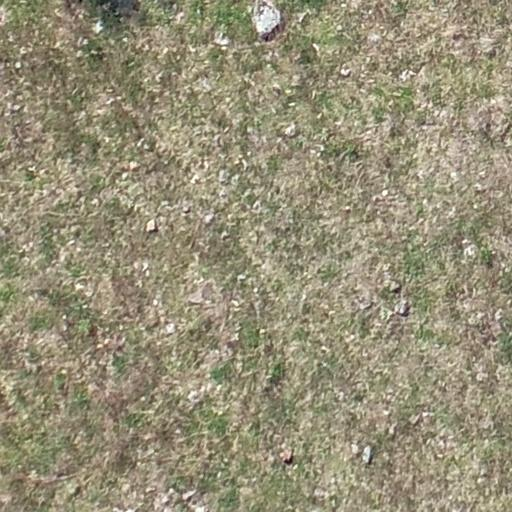stone: (185, 279, 215, 305), (478, 35, 500, 56), (282, 121, 302, 141), (360, 446, 375, 467), (212, 31, 230, 47), (356, 294, 373, 310), (394, 300, 411, 315), (159, 495, 174, 510), (388, 280, 402, 294), (280, 450, 294, 464), (218, 168, 230, 184), (399, 69, 412, 82), (340, 64, 352, 78), (146, 219, 158, 233), (386, 425, 398, 438), (203, 213, 215, 224), (272, 85, 282, 98), (350, 442, 360, 455), (220, 230, 229, 241), (312, 42, 320, 54), (182, 204, 191, 214), (236, 274, 247, 282)
